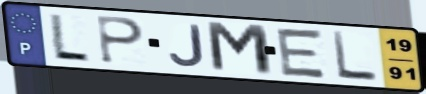E: (274, 26, 330, 81)
J: (167, 23, 208, 69)
L: (330, 29, 381, 83), (47, 12, 93, 64)
M: (203, 19, 277, 78)
P: (95, 14, 147, 66)
